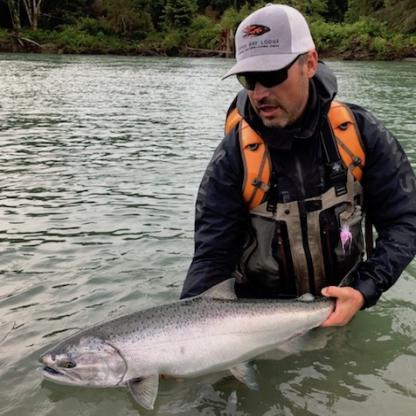fish: (39, 256, 364, 406)
